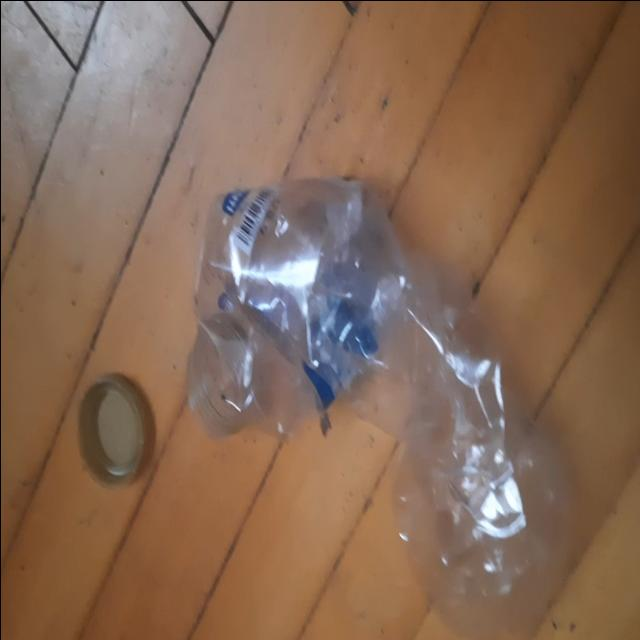Plastic: (186, 176, 570, 639)
